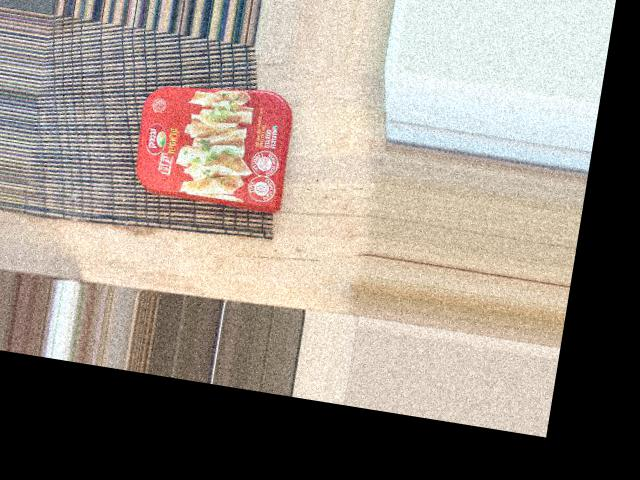cheese: (79, 22, 243, 198)
